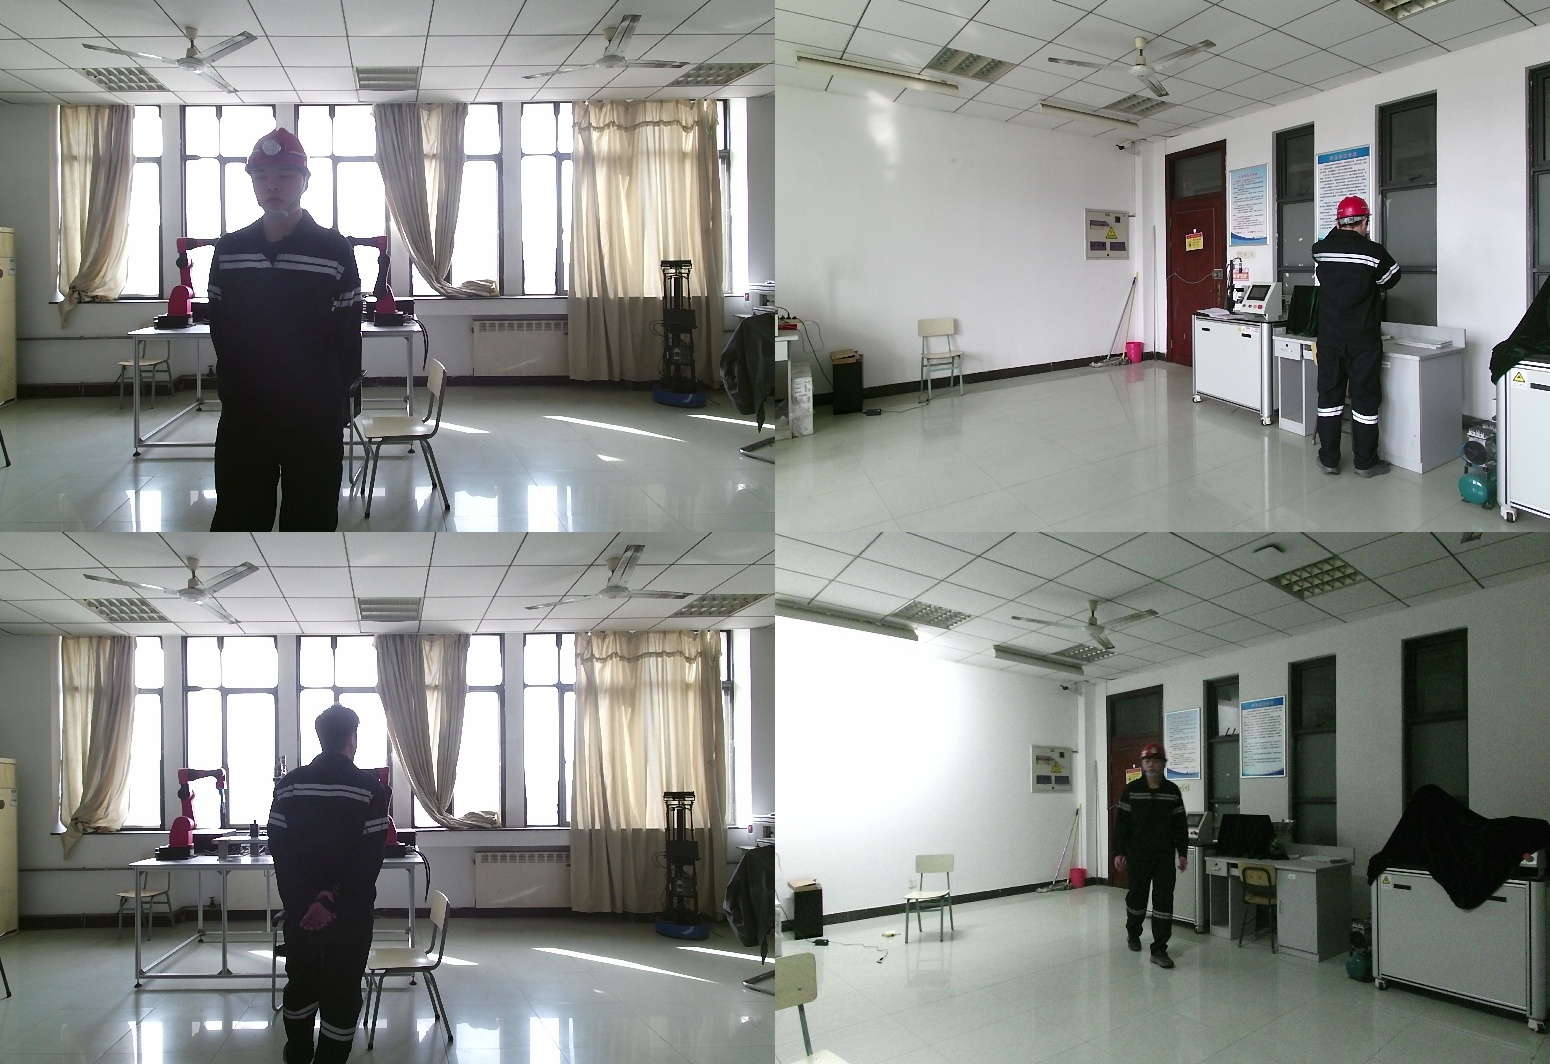person: (206, 128, 359, 532), (265, 705, 413, 1064), (1307, 195, 1428, 478), (1111, 747, 1195, 967)
